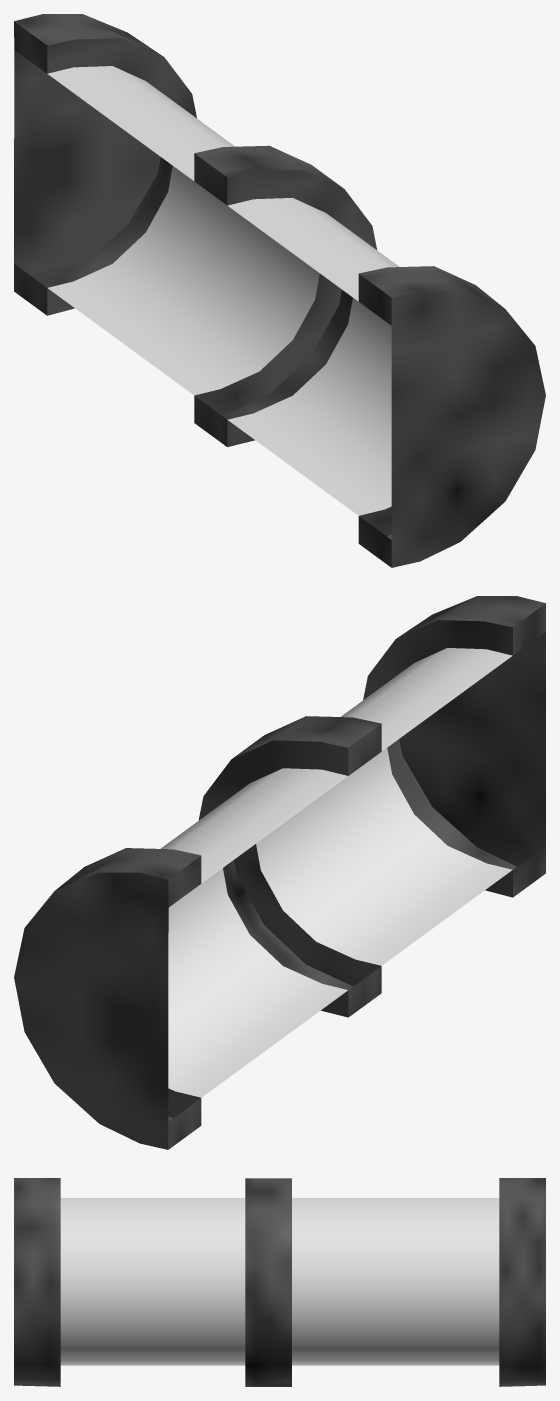
Rendered from Lamp.fbx.
The picture shows the model from 3 angles, top to bottom: view 1: azimuth 30°, elevation 25°; view 2: azimuth 150°, elevation 25°; view 3: azimuth 270°, elevation 25°; orthographic projection. The views are drawn at different scales.
Visible parts, largest first — view 1: Cylinder.002; view 2: Cylinder.002; view 3: Cylinder.002.
Boxes of the visible parts, box(x1,y1,x2,y2) form: Cylinder.002: box(14, 14, 545, 567); Cylinder.002: box(14, 596, 545, 1149); Cylinder.002: box(14, 1178, 545, 1386).
Size of the model in its own units: 17.02 by 28.46 by 71.94.
